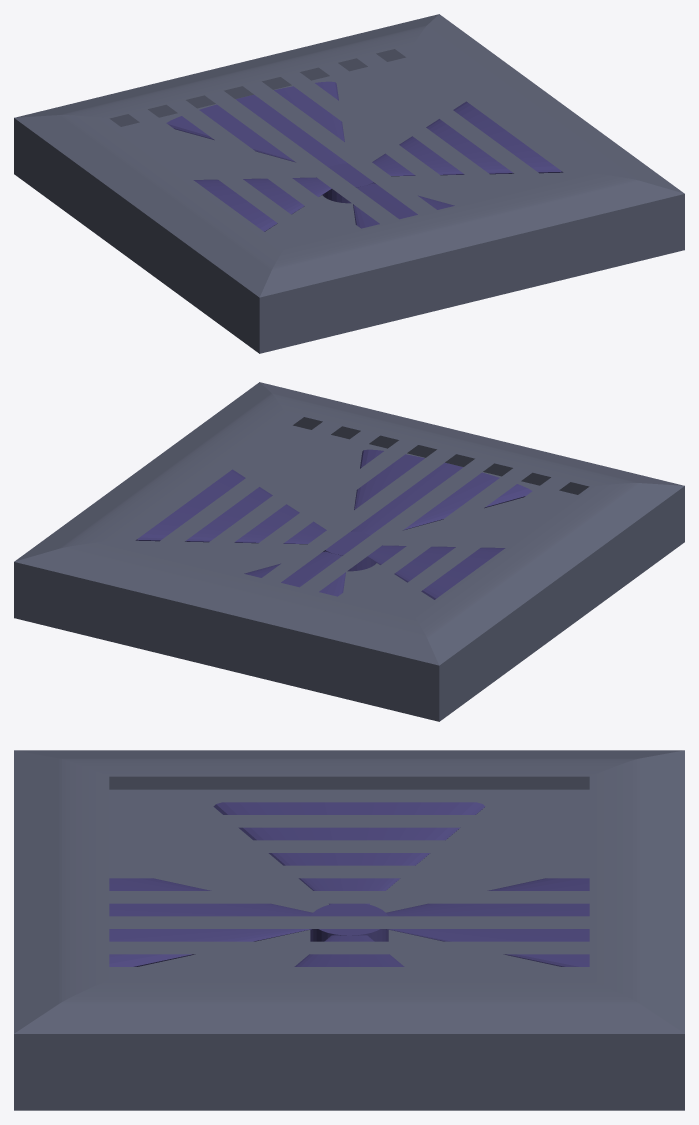
File: cmb_air_vent.glb
3 renders of one model, top to bottom at view 1: azimuth 30°, elevation 25°; view 2: azimuth 150°, elevation 25°; view 3: azimuth 270°, elevation 25°, orthographic. The views are drawn at different scales.
Visible parts, largest first — view 1: Cube.001, Cube, Cone.001, Cone, Cone.002, Cone.003, Cylinder; view 2: Cube.001, Cube, Cone.003, Cone, Cone.002, Cone.001, Cylinder; view 3: Cube.001, Cube, Cone.002, Cone.001, Cone.003, Cylinder, Cone.
Boxes of the visible parts, <box> form: Cube.001: <box>14,14,684,335</box>; Cube: <box>14,57,684,353</box>; Cone.001: <box>166,81,347,167</box>; Cone: <box>372,101,563,176</box>; Cone.002: <box>193,177,331,231</box>; Cone.003: <box>353,183,454,228</box>; Cylinder: <box>322,163,375,203</box>; Cube.001: <box>14,382,684,702</box>; Cube: <box>14,425,684,721</box>; Cone.003: <box>351,449,532,535</box>; Cone: <box>135,469,326,544</box>; Cone.002: <box>367,545,505,599</box>; Cone.001: <box>244,551,345,596</box>; Cylinder: <box>323,531,376,571</box>; Cube.001: <box>14,750,684,1085</box>; Cube: <box>14,802,684,1110</box>; Cone.002: <box>213,802,485,904</box>; Cone.001: <box>386,878,589,966</box>; Cone.003: <box>109,878,312,966</box>; Cylinder: <box>310,903,388,941</box>; Cone: <box>294,935,404,966</box>.
Size of the model in its own units: 6 by 1.1 by 6.
